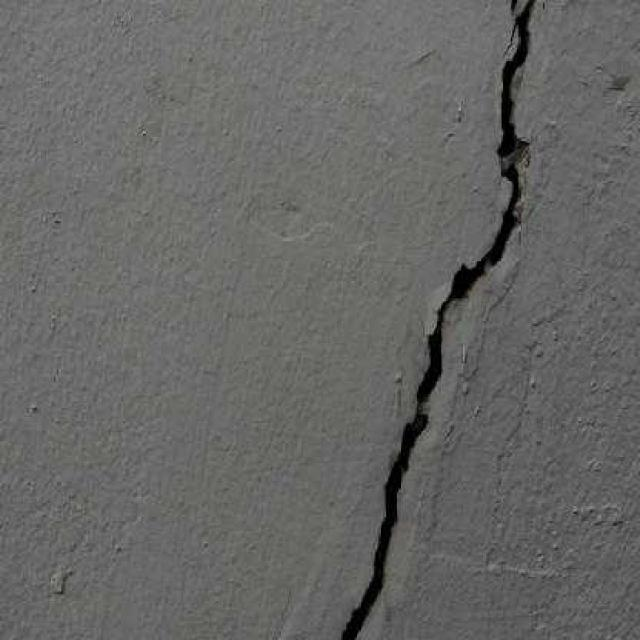D00: (332, 0, 544, 640)
